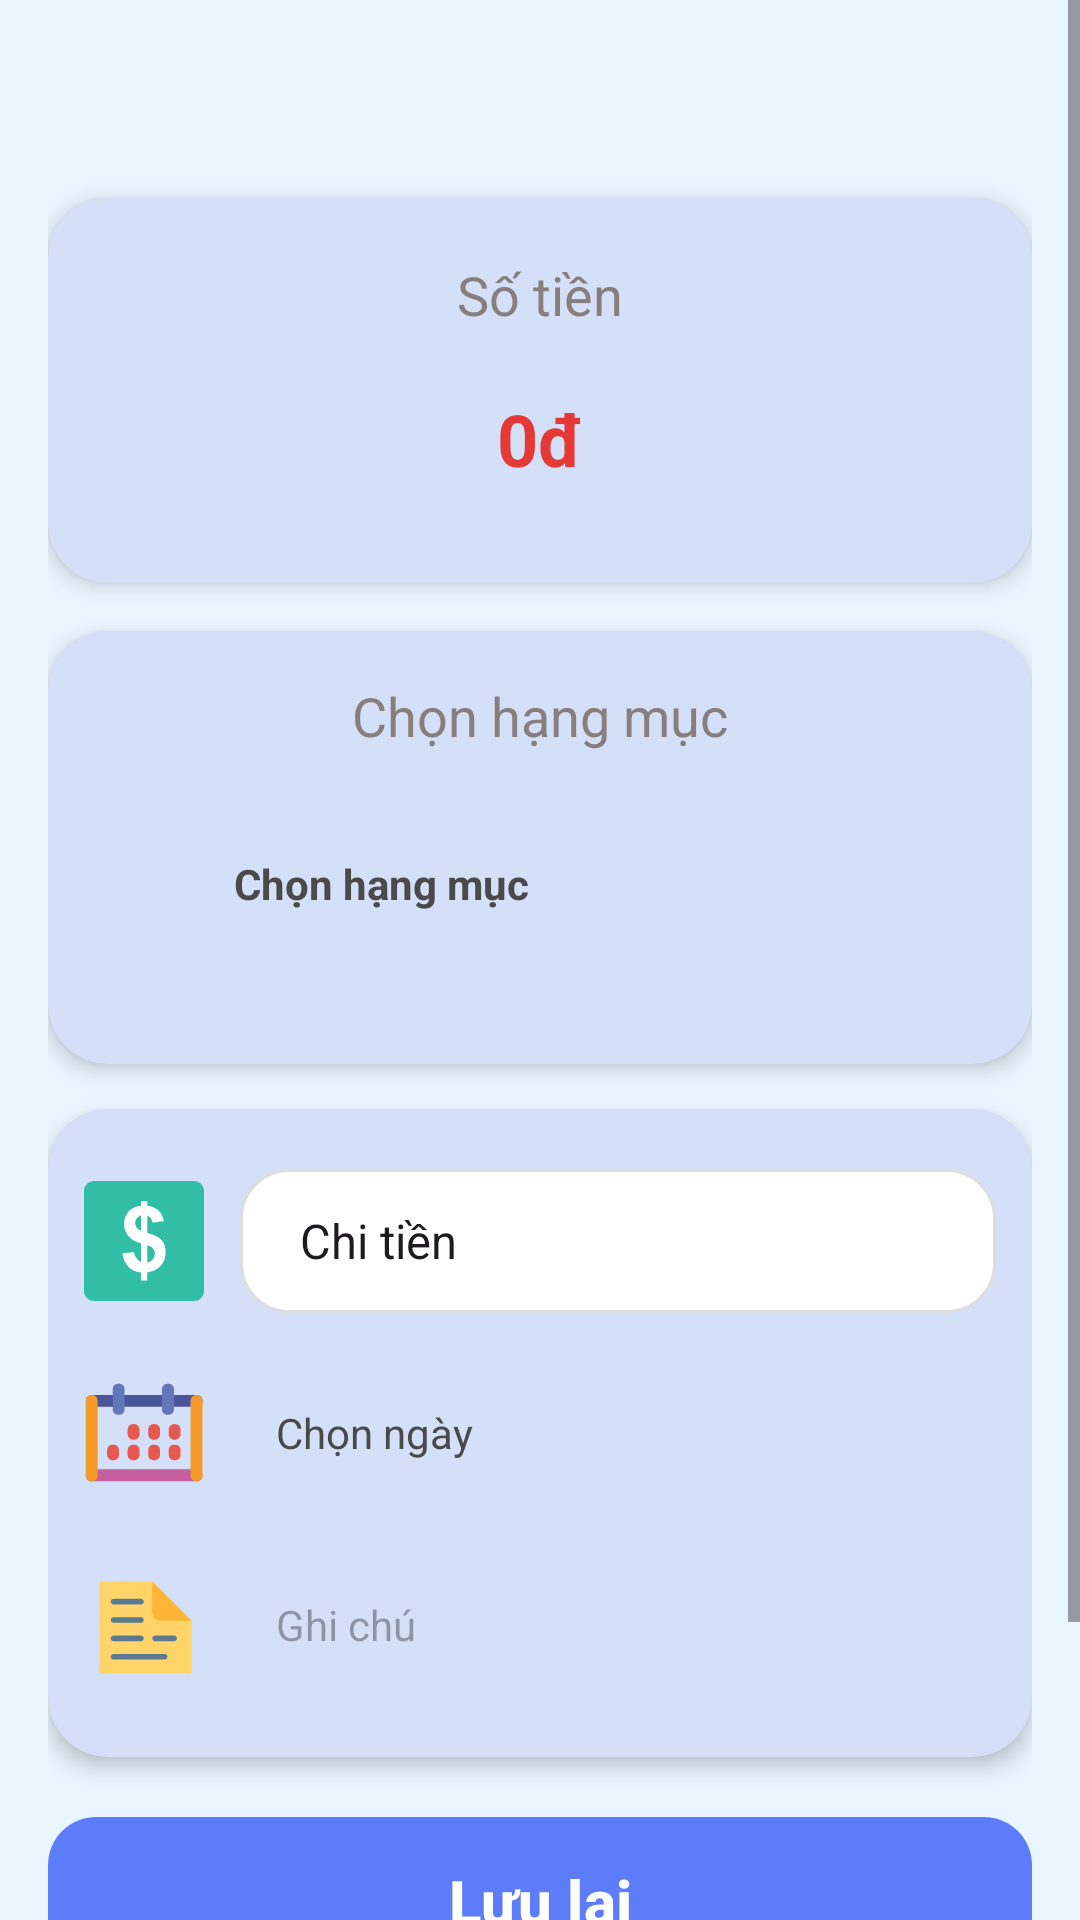

Point at icon controls on the screen. Image size 1080×1920, points as [x,y].
date: [144,1432]
money: [144,1241]
note: [145,1627]
